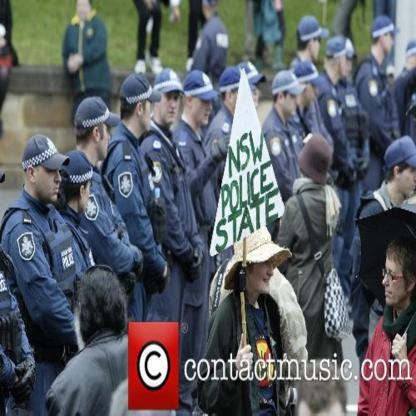face: (37, 152, 63, 203), (383, 254, 407, 307), (252, 248, 275, 294), (160, 82, 180, 125), (194, 88, 213, 125), (401, 155, 416, 195), (138, 91, 152, 132), (81, 170, 93, 212), (100, 115, 111, 160), (284, 83, 299, 116), (305, 77, 319, 105), (250, 78, 260, 109), (232, 85, 242, 114), (312, 31, 321, 62), (385, 28, 395, 53), (78, 1, 90, 20), (345, 55, 353, 78), (341, 49, 346, 77), (411, 51, 416, 69), (388, 75, 394, 86)
